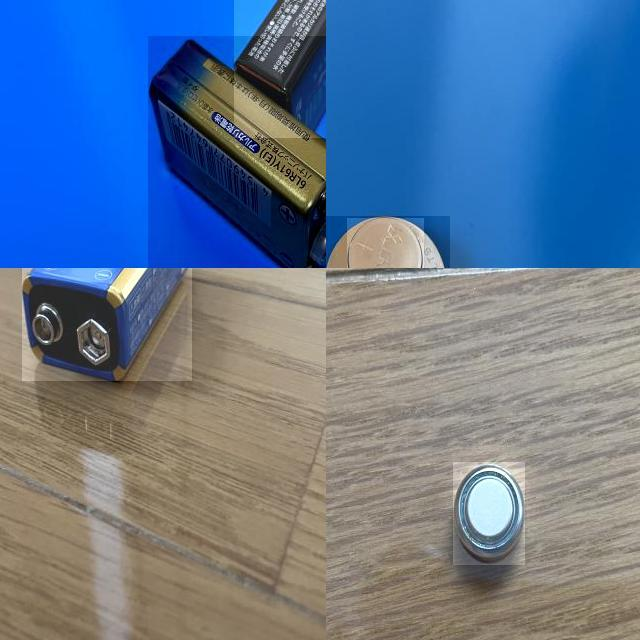9V: (148, 36, 326, 268), (22, 268, 192, 381), (234, 0, 326, 138)
